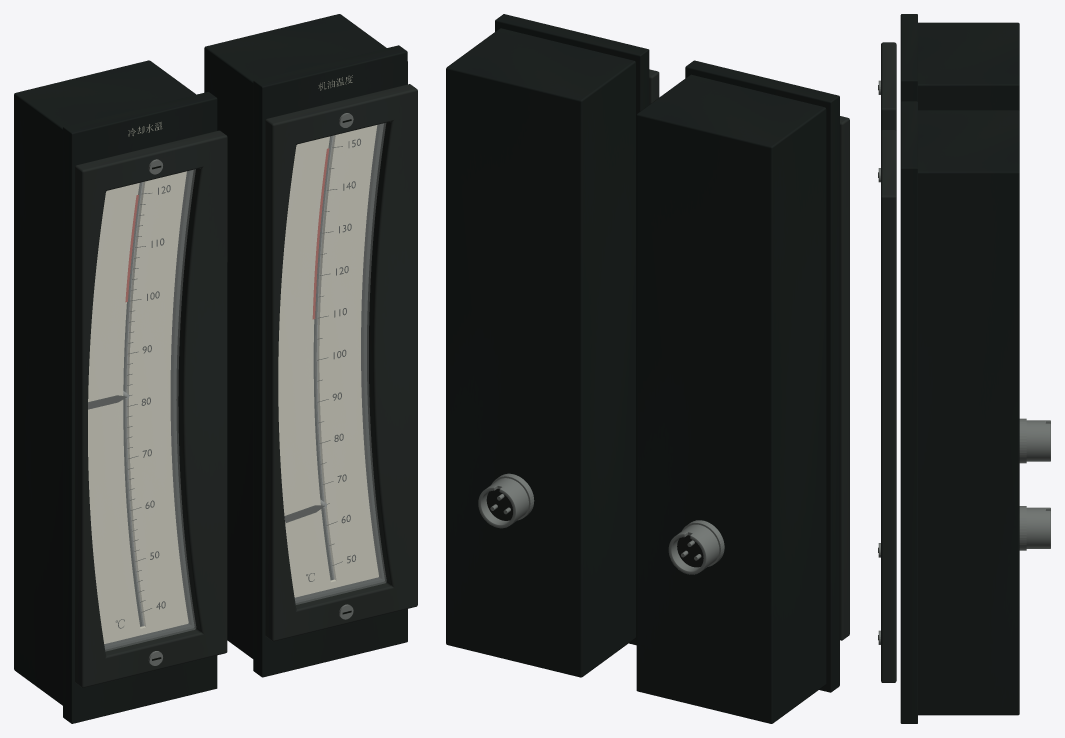
File: water_oil_temperature_gauges_final.glb
3 renders of one model, left to right at view 1: azimuth 30°, elevation 25°; view 2: azimuth 150°, elevation 25°; view 3: azimuth 270°, elevation 25°, orthographic. The views are drawn at different scales.
Parts seen in each view (by area): view 1: Water_Fixed_Protective_Glass, Oil_Fixed_Protective_Glass, Water_Fixed_Raised_Metal_Bezel, Oil_Fixed_Raised_Metal_Bezel, Water_Fixed_Scale_Window, Oil_Fixed_Scale_Window, Water_Fixed_Rear_Housing, Oil_Fixed_Rear_Housing, Oil_Fixed_Front_Frame, Water_Fixed_Front_Frame, Oil_Fixed_Curved_Guide_Rail.001, Water_Fixed_Curved_Guide_Rail.001; view 2: Water_Fixed_Rear_Housing, Oil_Fixed_Rear_Housing, Water_Fixed_Front_Frame, Water_Fixed_Raised_Metal_Bezel, Oil_Fixed_Front_Frame, Water_RPM_Connector_Shell, Oil_RPM_Connector_Shell; view 3: Oil_Fixed_Rear_Housing, Oil_Fixed_Front_Frame, Water_Fixed_Rear_Housing, Oil_Fixed_Raised_Metal_Bezel, Water_Fixed_Front_Frame, Water_Fixed_Raised_Metal_Bezel, Water_RPM_Connector_Shell, Oil_RPM_Connector_Shell, Water_RPM_Rear_Connector_Seat, Oil_RPM_Rear_Connector_Seat.
Part boxes in pixels (x1,y1,x2,y2): Water_Fixed_Protective_Glass: (88,169,195,650); Oil_Fixed_Protective_Glass: (278,123,386,604); Water_Fixed_Raised_Metal_Bezel: (75,130,227,687); Oil_Fixed_Raised_Metal_Bezel: (265,84,417,641); Water_Fixed_Scale_Window: (88,171,188,643); Oil_Fixed_Scale_Window: (278,125,378,597); Water_Fixed_Rear_Housing: (14,60,195,705); Oil_Fixed_Rear_Housing: (204,14,386,658); Oil_Fixed_Front_Frame: (253,45,407,677); Water_Fixed_Front_Frame: (63,92,217,723); Oil_Fixed_Curved_Guide_Rail.001: (315,136,334,579); Water_Fixed_Curved_Guide_Rail.001: (125,182,144,626); Water_Fixed_Rear_Housing: (636,74,826,723); Oil_Fixed_Rear_Housing: (446,28,635,677); Water_Fixed_Front_Frame: (685,60,839,692); Water_Fixed_Raised_Metal_Bezel: (840,116,849,640); Oil_Fixed_Front_Frame: (495,14,649,645); Water_RPM_Connector_Shell: (668,524,719,574); Oil_RPM_Connector_Shell: (478,478,528,528); Oil_Fixed_Rear_Housing: (918,110,1019,715); Oil_Fixed_Front_Frame: (900,101,917,723); Water_Fixed_Rear_Housing: (918,22,1019,110); Oil_Fixed_Raised_Metal_Bezel: (881,130,896,682); Water_Fixed_Front_Frame: (900,14,917,102); Water_Fixed_Raised_Metal_Bezel: (881,42,896,131); Water_RPM_Connector_Shell: (1026,420,1050,461); Oil_RPM_Connector_Shell: (1026,507,1050,548); Water_RPM_Rear_Connector_Seat: (1019,418,1026,463); Oil_RPM_Rear_Connector_Seat: (1019,506,1026,550).
Bounding box in the file's own units: 0.106 × 0.178 × 0.0501.
10 materials, 3 textured.
